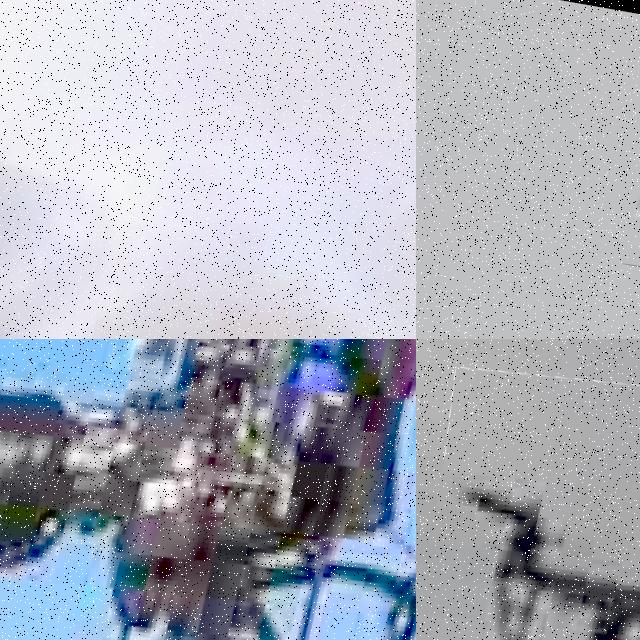0: (0, 339, 416, 640), (416, 346, 640, 640)
drone: (0, 0, 416, 339)
